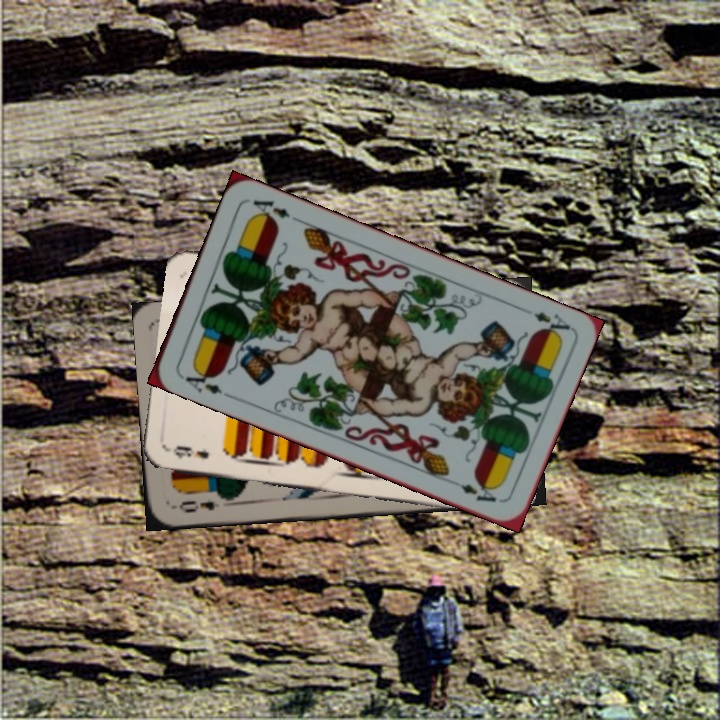E9: (169, 441, 211, 462)
EA: (177, 363, 233, 401), (529, 307, 574, 340)
EO: (175, 491, 229, 516)
